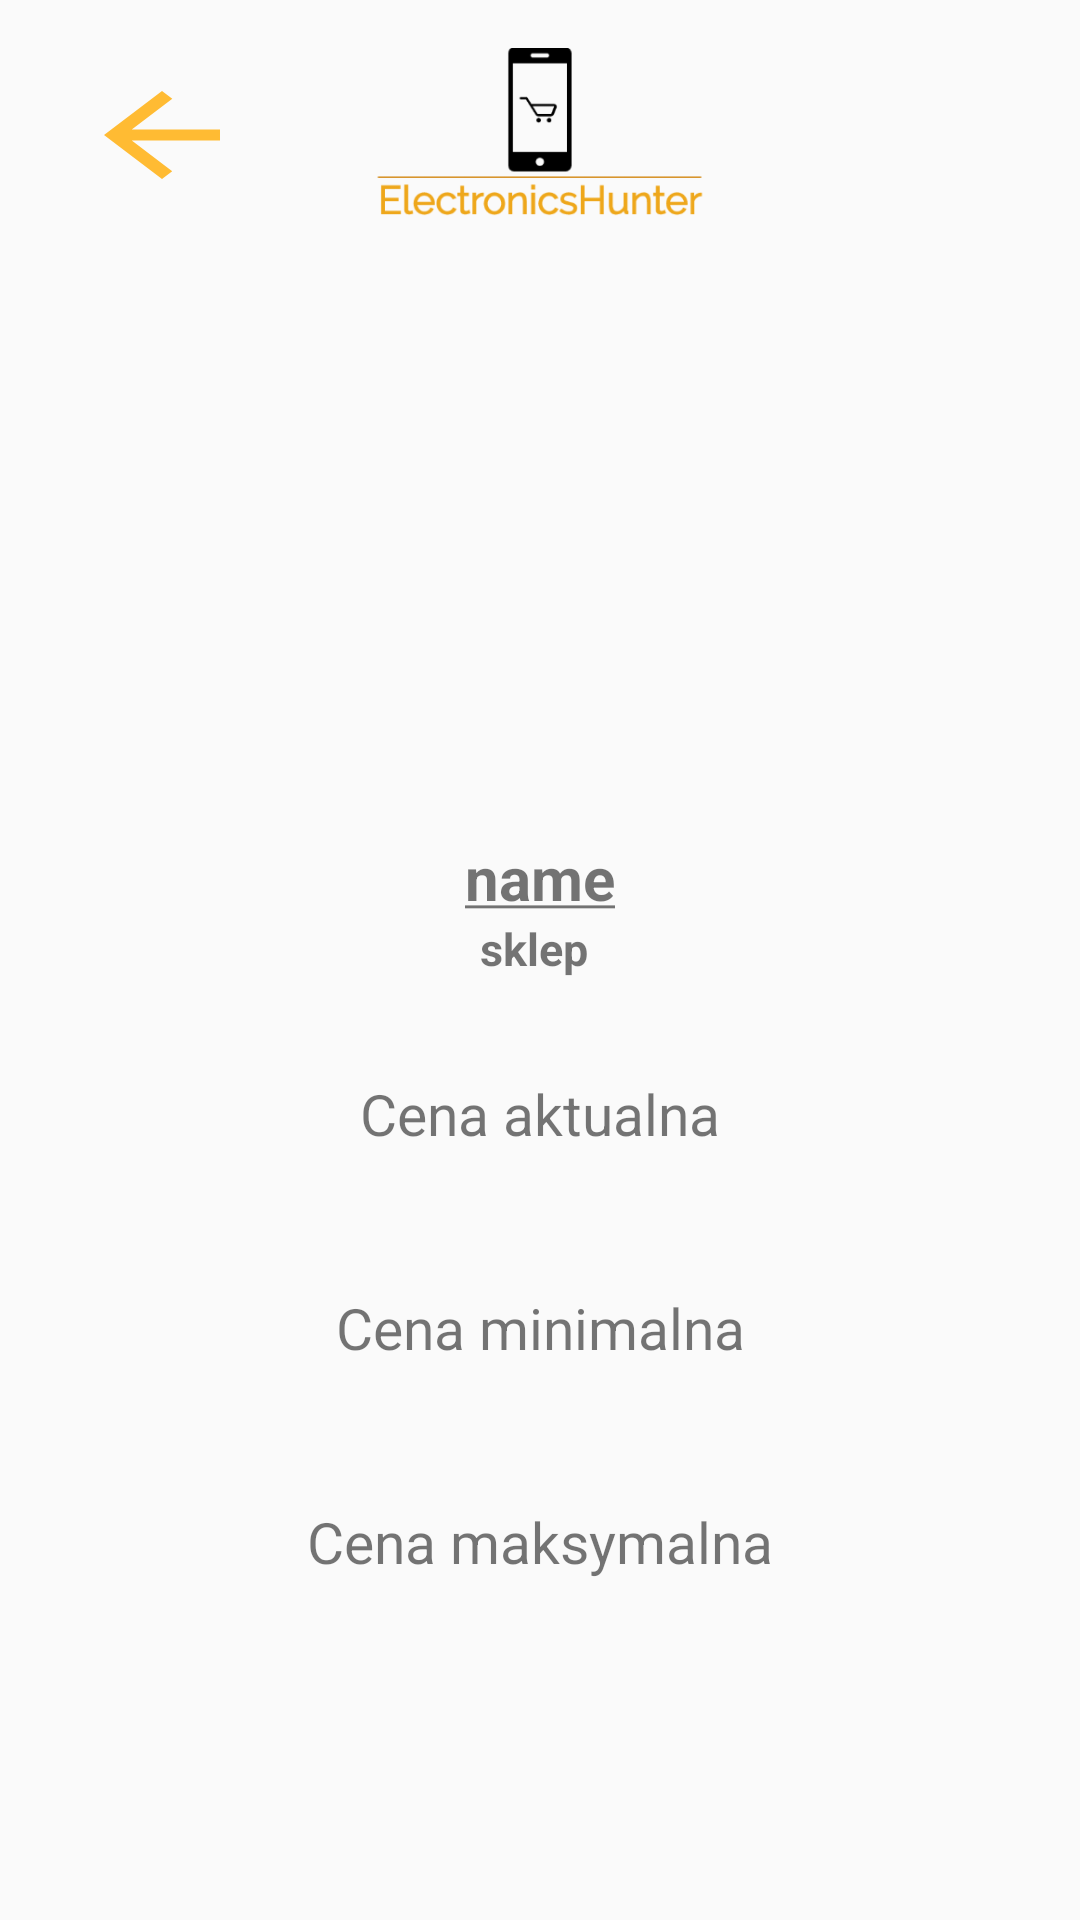

Point at icon controls on the screen. Image size 1080 x 1920, points as (x,y).
arrow back: (162,135)
